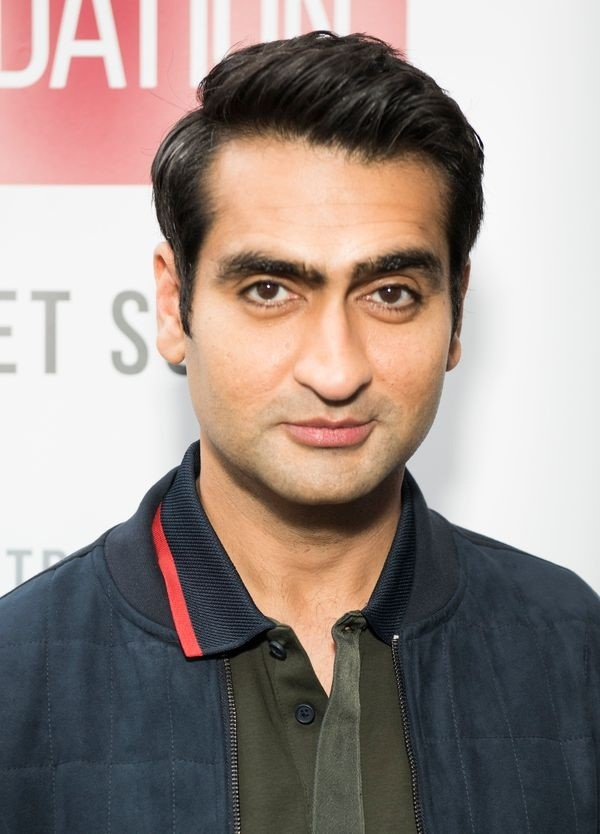face_no_mask: (147, 57, 488, 506)
